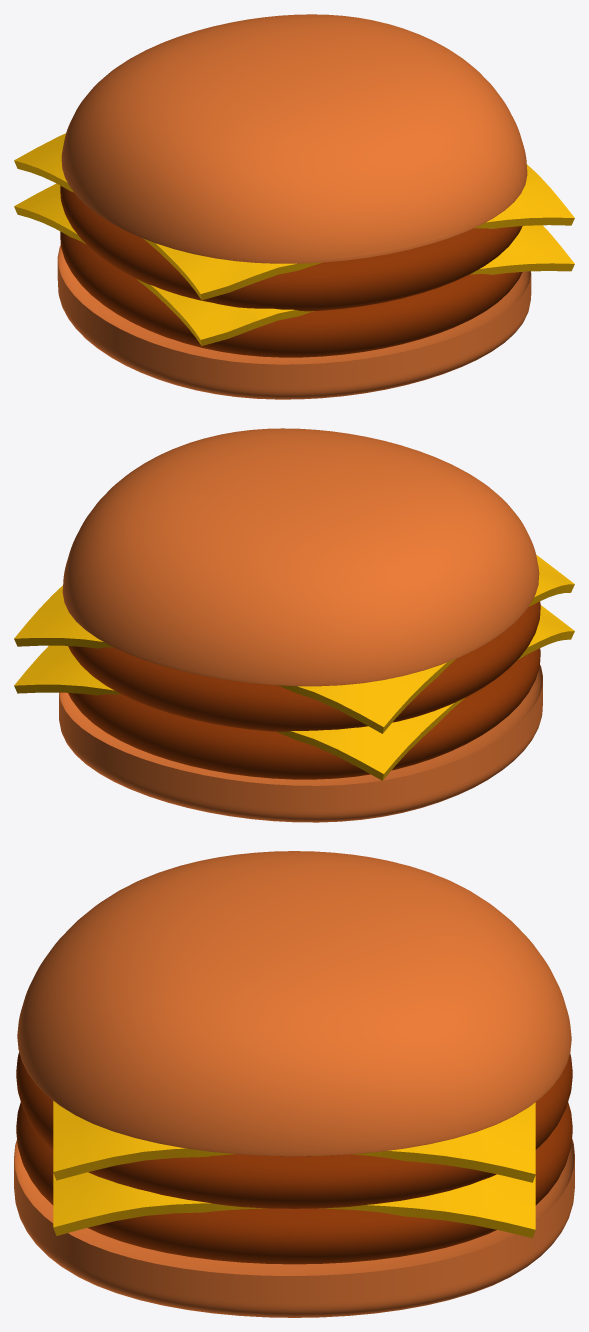
The model's file is hamburger3.gltf.
3 views of the same model, one above another, from view 1: azimuth 30°, elevation 25°; view 2: azimuth 150°, elevation 25°; view 3: azimuth 270°, elevation 25° (orthographic). The views are drawn at different scales.
Parts seen in each view (by area): view 1: 6TopBun, 1ButtomBun, 2Meat, 4Meat, 3Cheese, 5Cheese; view 2: 6TopBun, 1ButtomBun, 2Meat, 4Meat, 3Cheese, 5Cheese; view 3: 6TopBun, 1ButtomBun, 2Meat, 4Meat, 3Cheese, 5Cheese.
Part boxes in pixels (x1,y1,x2,y2): 6TopBun: (61,14,527,263); 1ButtomBun: (57,245,531,399); 2Meat: (60,231,522,357); 4Meat: (60,186,522,311); 3Cheese: (14,183,574,345); 5Cheese: (14,133,574,300); 6TopBun: (62,428,539,686); 1ButtomBun: (59,665,542,822); 2Meat: (68,648,540,779); 4Meat: (68,601,540,731); 3Cheese: (14,605,574,780); 5Cheese: (14,555,574,733); 6TopBun: (17,851,571,1156); 1ButtomBun: (14,1138,574,1317); 2Meat: (16,1102,572,1264); 4Meat: (16,1052,572,1208); 3Cheese: (53,1172,535,1238); 5Cheese: (53,1101,535,1182).
Bounding box in the file's own units: 1.83 × 1.14 × 1.83.
